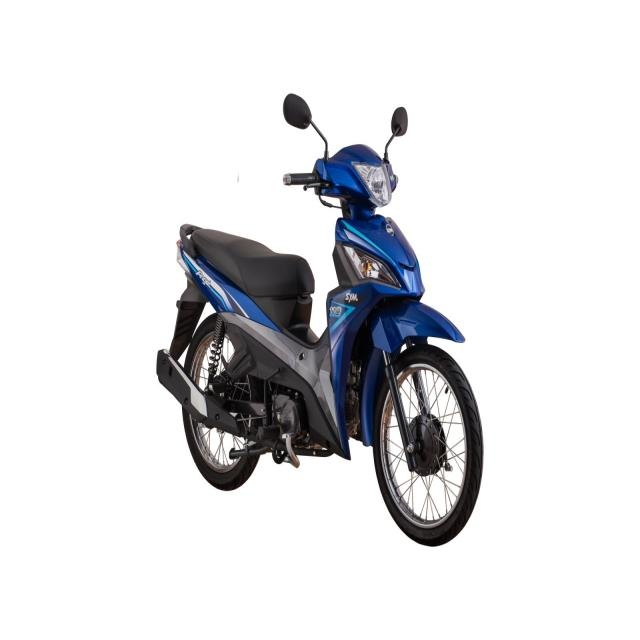Motorcycle: (151, 83, 488, 549)
